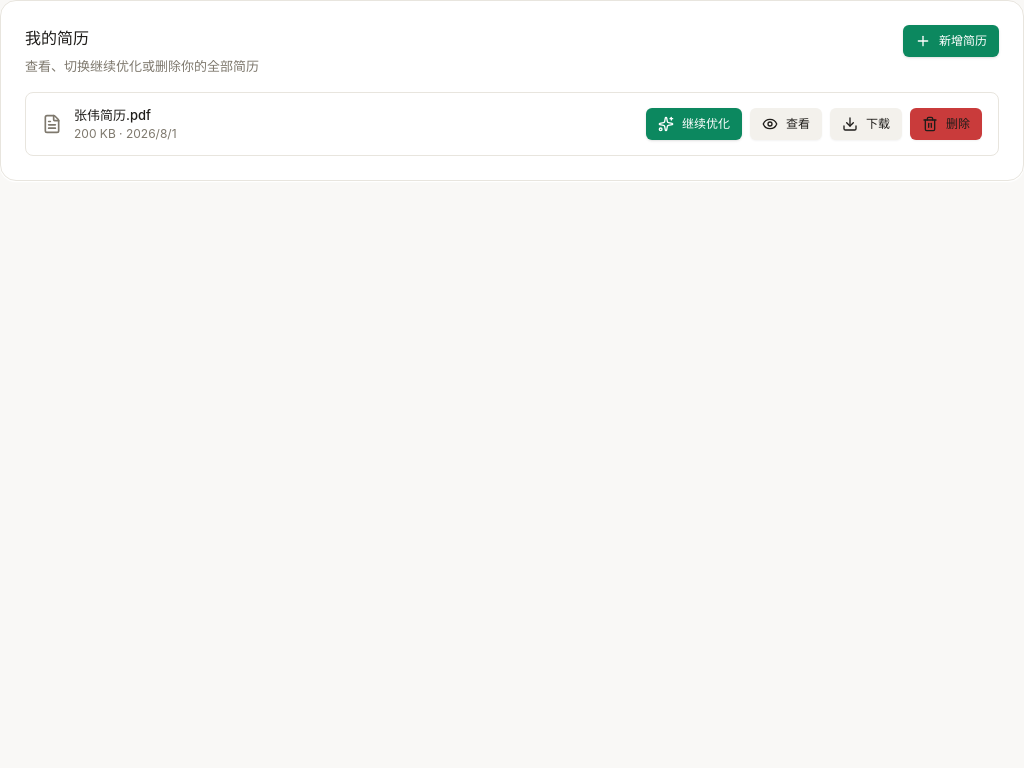
it: ResumeCenter(我的简历 Tab,4.13) › 删除:点删除弹确认框(含文件名),确认后调接口 + 成功 toast + 刷新列表
Click the button "删除".
click(946, 124)  # box left=910, top=108, right=982, bottom=140
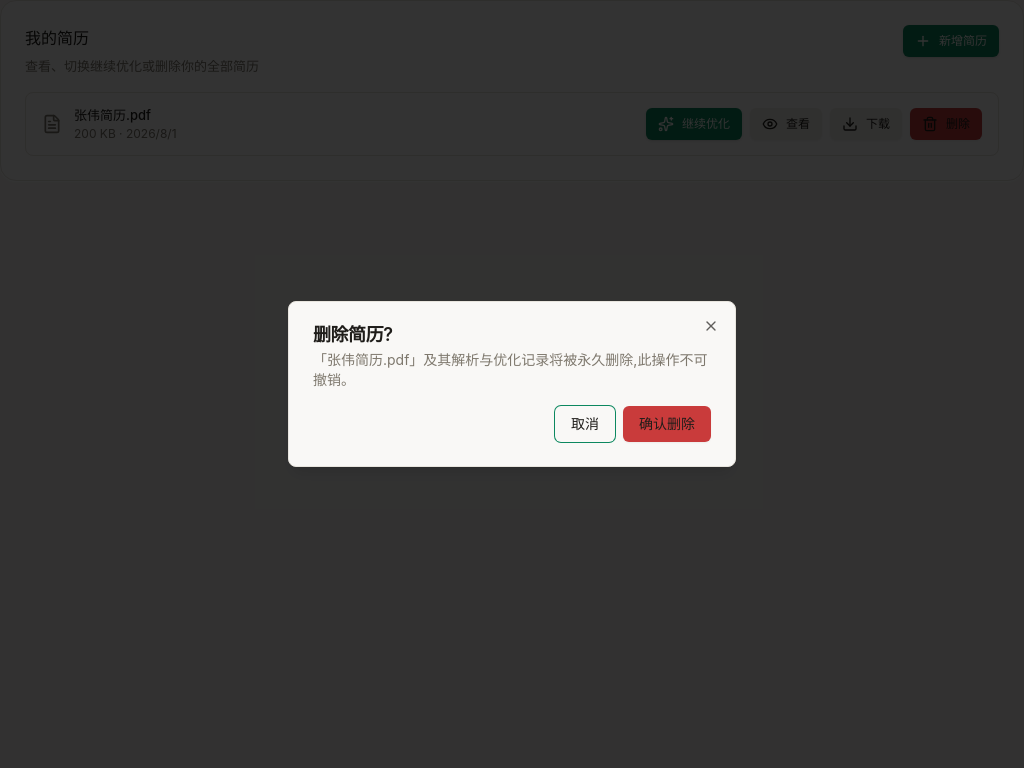
Expected: the dialog is shown, left=288, top=301, right=736, bottom=467
Expected: the text "「张伟简历.pdf」及其解析与优化记录将被永久删除,此操作不可撤销。" is shown, left=313, top=350, right=711, bottom=390
Click the button "确认删除".
click(667, 424)  # box left=623, top=406, right=711, bottom=442
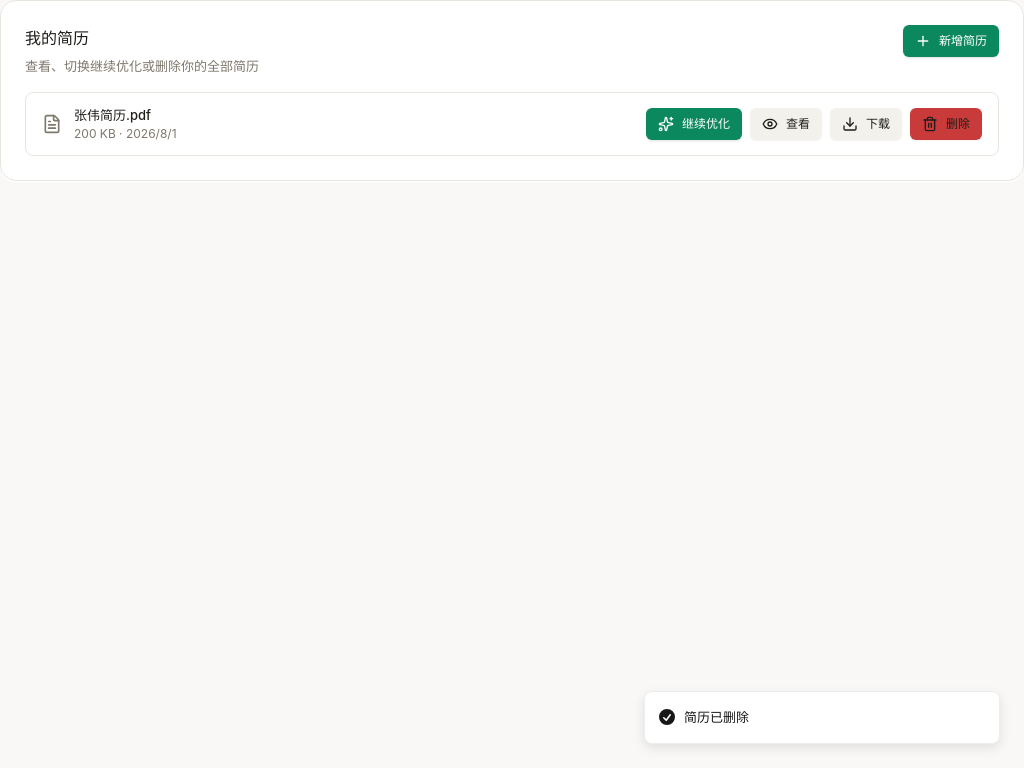
Expected: the text "简历已删除" is shown, left=684, top=708, right=749, bottom=727
Expected: the dialog is gone
